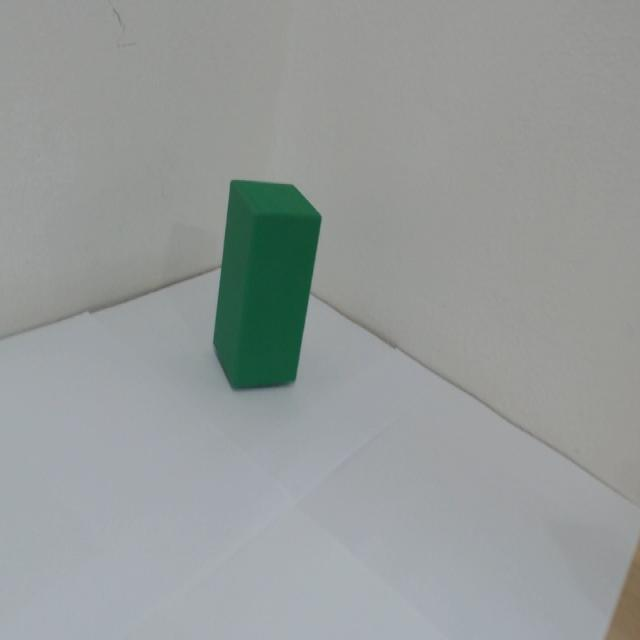cube: (146, 103, 339, 482)
